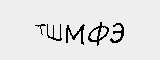М: (13, 17, 50, 40)
Н: (69, 22, 85, 38)
С: (103, 20, 121, 37)
Т: (48, 18, 69, 38)
Я: (120, 21, 138, 37)
Ң: (83, 21, 104, 40)
